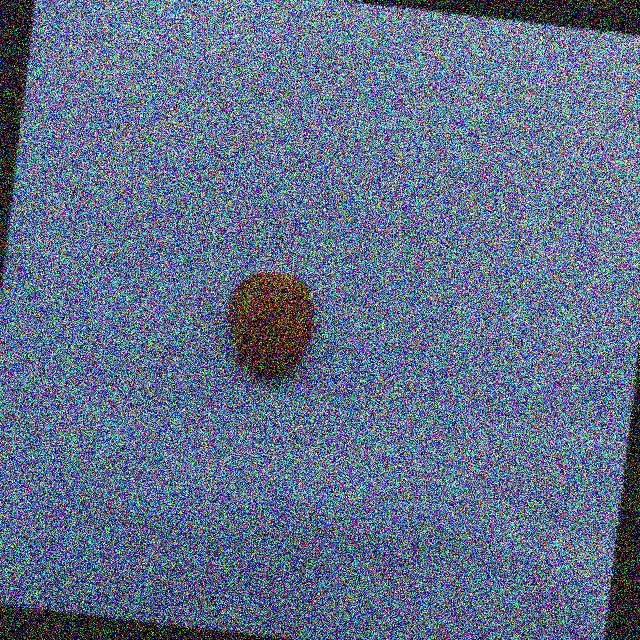grade1: (214, 261, 329, 393)
